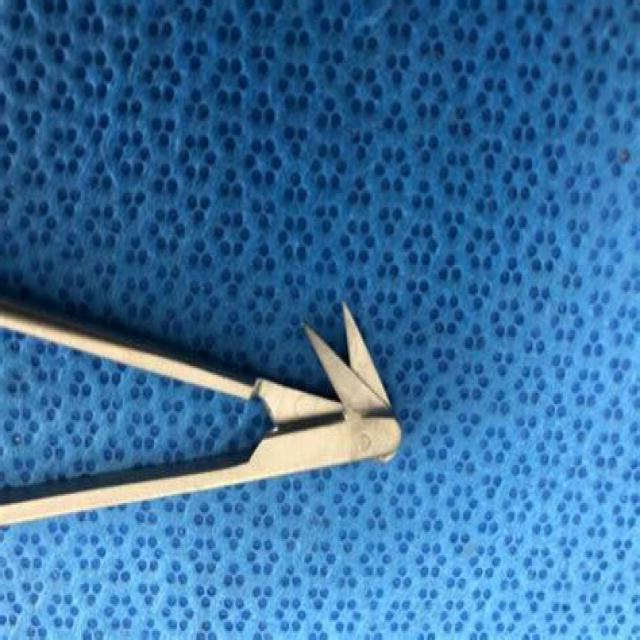Potts: (0, 284, 408, 534)
